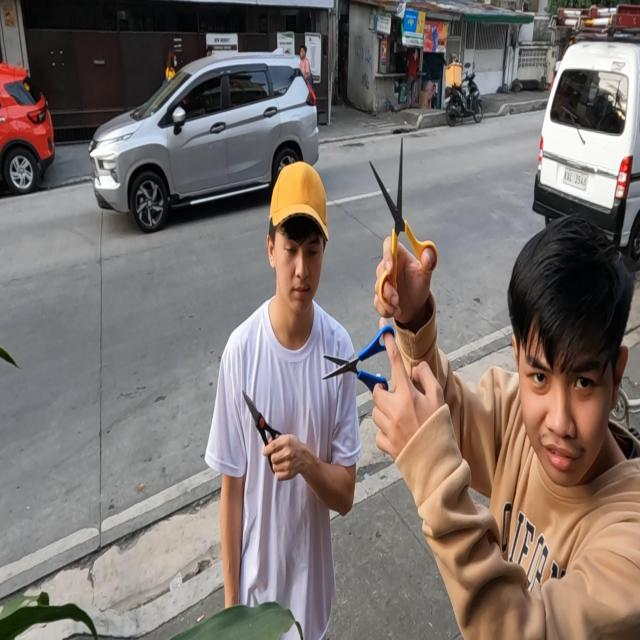scissor: (368, 136, 438, 306), (321, 322, 396, 405), (241, 389, 287, 479)
